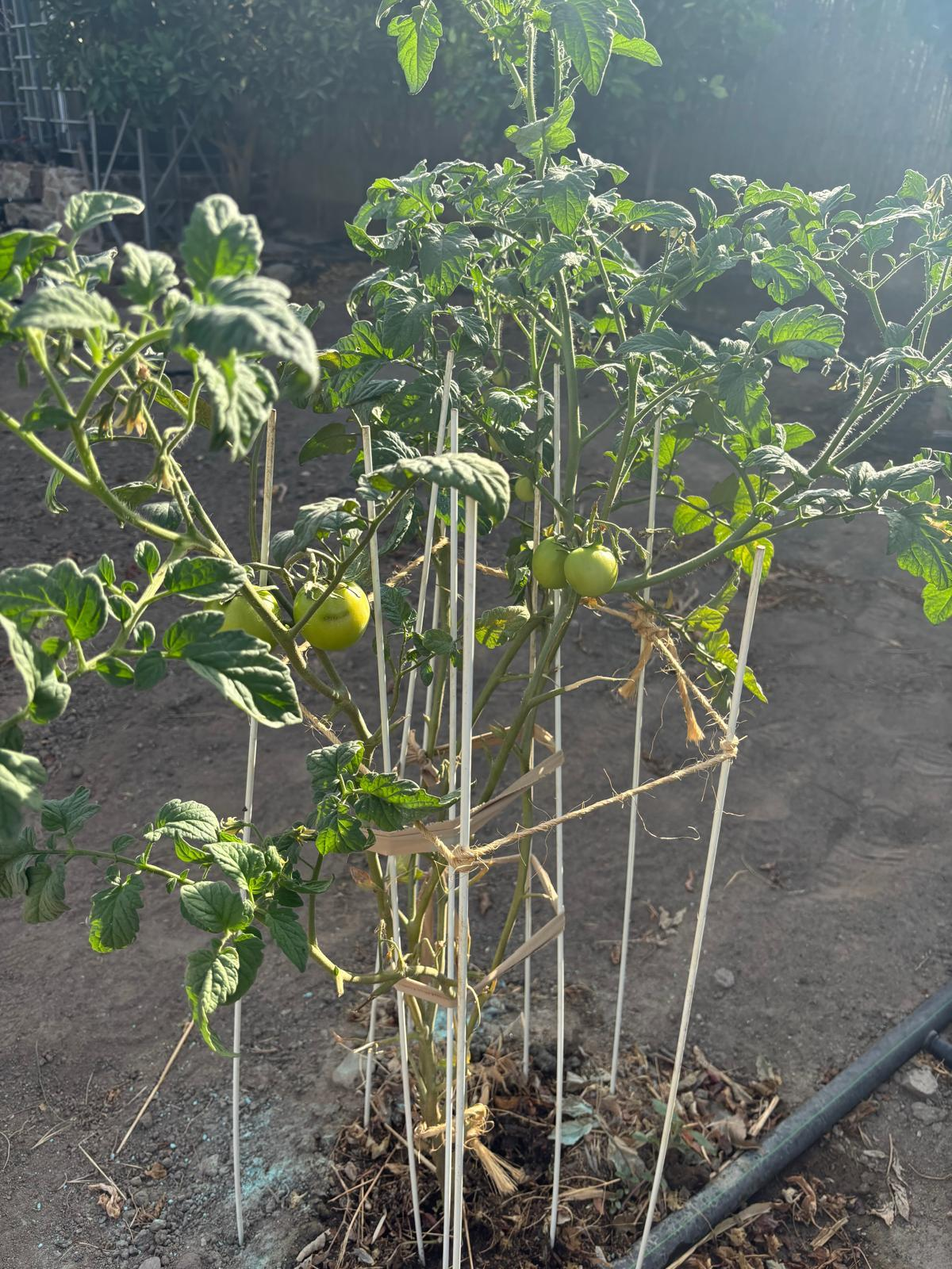tomatera: (8, 138, 933, 997)
